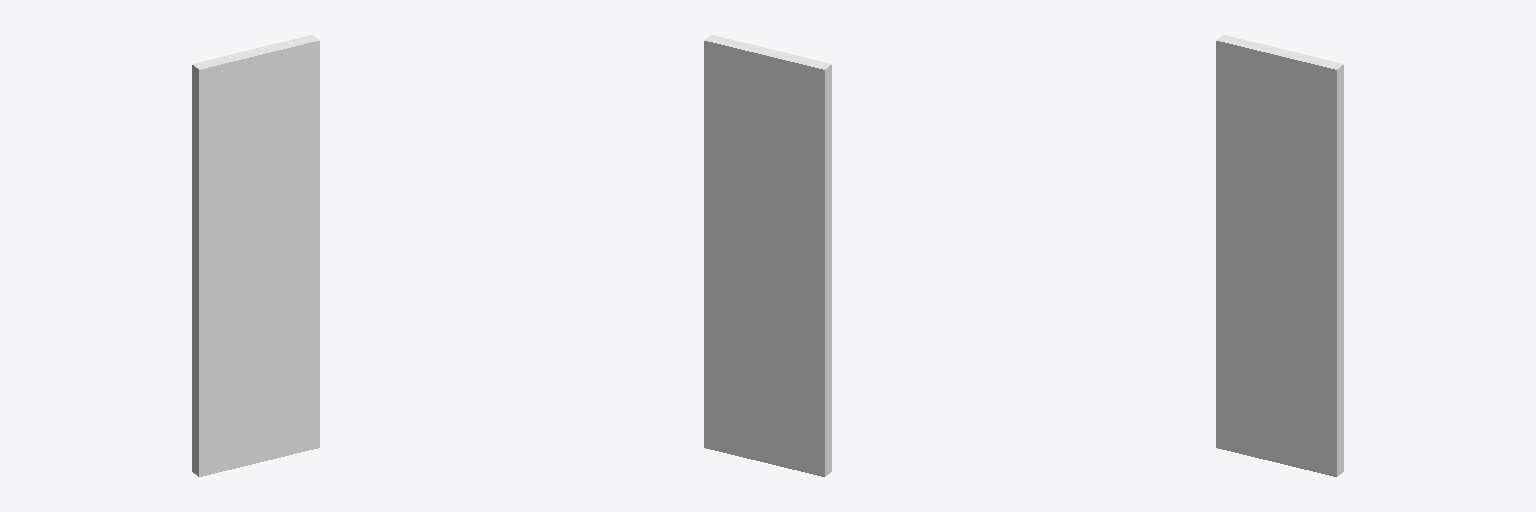
Rendered from Spind-doors-only.obj.
3 views of the same model, side by side, from view 1: azimuth 30°, elevation 25°; view 2: azimuth 150°, elevation 25°; view 3: azimuth 330°, elevation 25° (orthographic).
Parts seen in each view (by area): view 1: object 1; view 2: object 1; view 3: object 1.
Boxes of the visible parts, <box> form: object 1: <box>192,35,319,476</box>; object 1: <box>704,35,831,476</box>; object 1: <box>1216,35,1343,476</box>.
Size of the model in its own units: 0.9 by 2.9 by 0.1.